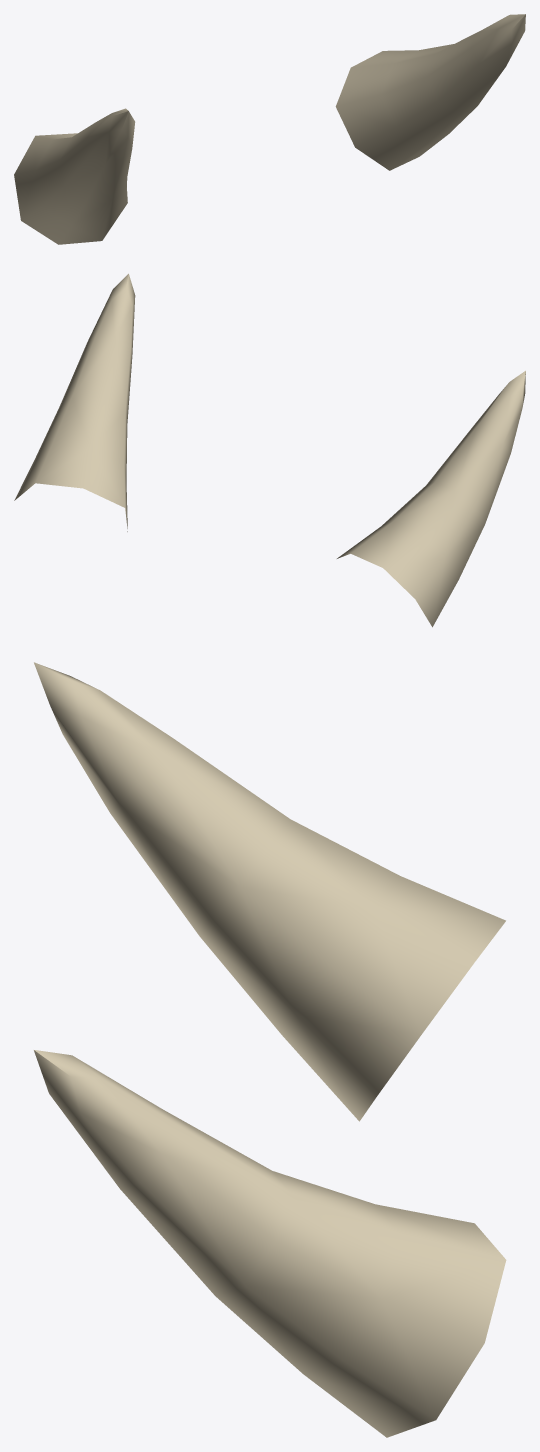
The model's file is ORC_Tusks.glb.
3 renders of one model, top to bottom at view 1: azimuth 30°, elevation 25°; view 2: azimuth 150°, elevation 25°; view 3: azimuth 270°, elevation 25°, orthographic. The views are drawn at different scales.
Visible parts, largest first — view 1: ORC_Tusks; view 2: ORC_Tusks; view 3: ORC_Tusks.
Part boxes in pixels (x1,y1,x2,y2): ORC_Tusks: [14, 14, 525, 244]; ORC_Tusks: [14, 273, 525, 627]; ORC_Tusks: [34, 662, 506, 1437].
Size of the model in its own units: 0.3081 by 0.1419 by 0.1497.
